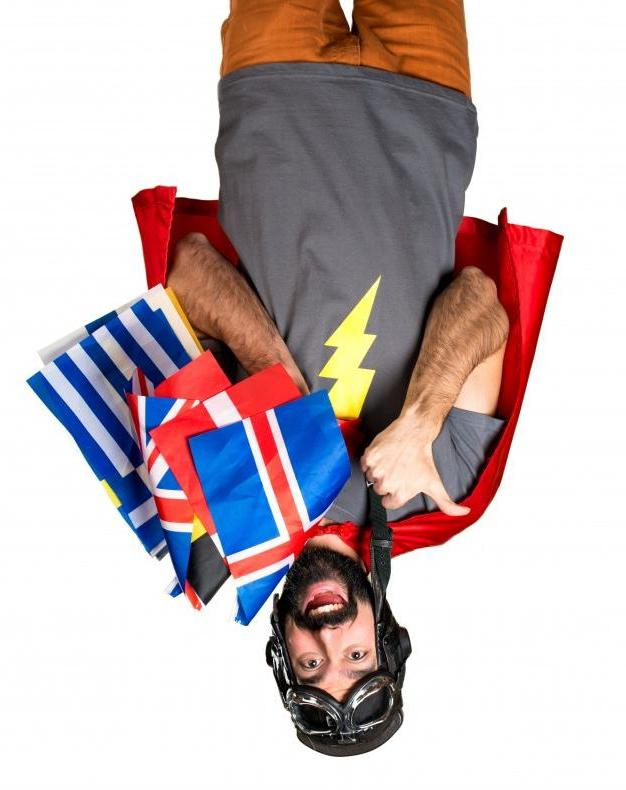thumbsdown: (358, 450, 471, 517)
